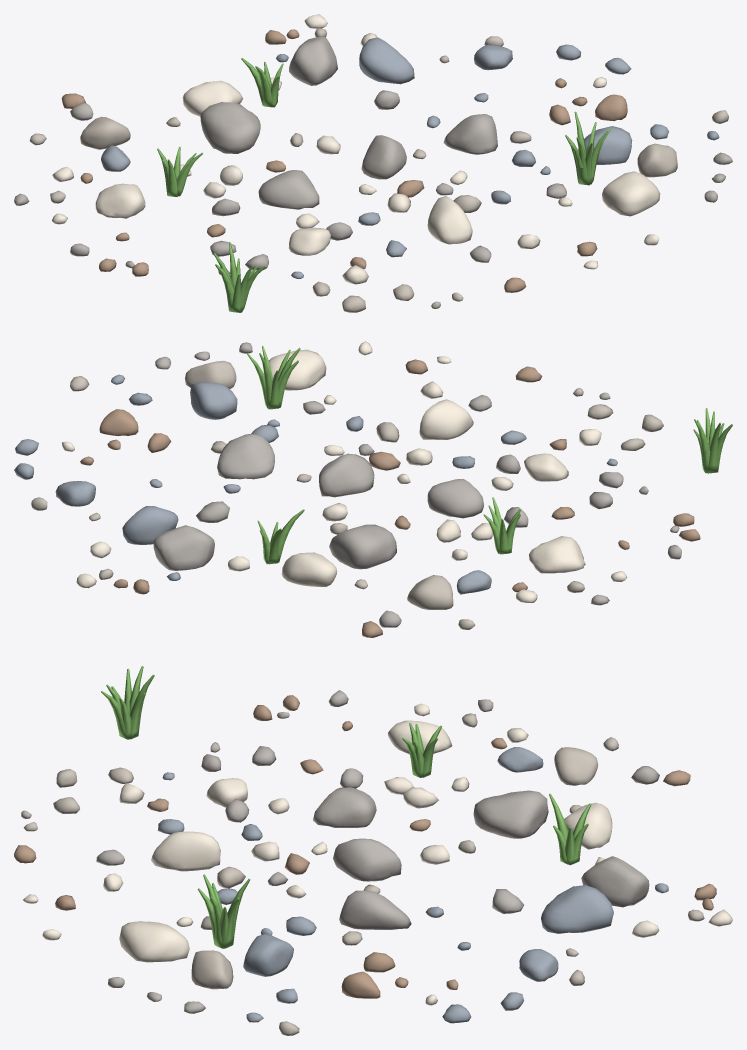
Rendered from pebble-scatter.glb.
3 views of the same model, one above another, from view 1: azimuth 30°, elevation 25°; view 2: azimuth 150°, elevation 25°; view 3: azimuth 270°, elevation 25° (orthographic). The views are drawn at different scales.
Visible parts, largest first — view 1: pebble-scatter_body; view 2: pebble-scatter_body; view 3: pebble-scatter_body.
Part boxes in pixels (box(x1,y1,x2,y2)): pebble-scatter_body: box(14, 14, 732, 312); pebble-scatter_body: box(14, 341, 732, 637); pebble-scatter_body: box(14, 666, 732, 1035).
Bounding box in the file's own units: 1.93 × 0.1793 × 1.74.
Materials: 1 (1 with a texture image).
